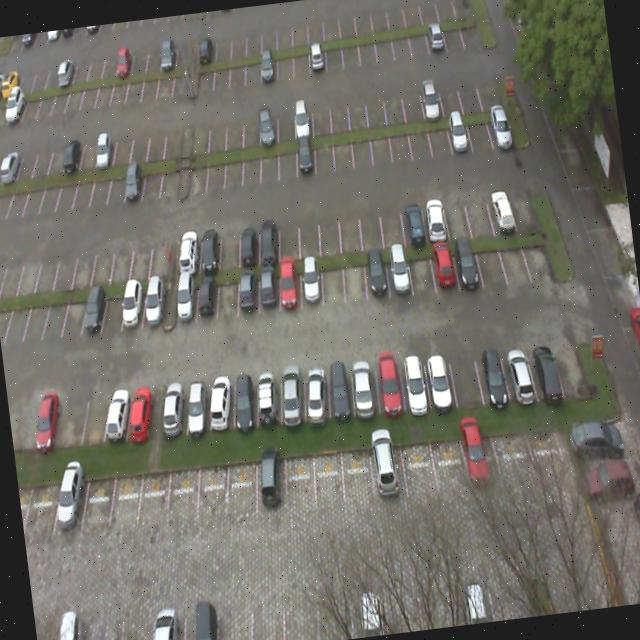empty: (71, 468, 120, 536), (102, 462, 147, 532), (129, 461, 173, 527), (18, 476, 62, 540), (220, 458, 262, 520), (550, 329, 590, 394), (190, 458, 233, 518), (308, 448, 348, 512), (160, 459, 202, 519), (282, 449, 318, 513), (73, 388, 111, 448), (449, 347, 485, 408), (49, 392, 87, 449), (93, 273, 128, 334), (520, 223, 556, 279), (56, 280, 88, 338), (473, 232, 507, 286), (208, 267, 240, 324), (464, 182, 496, 238), (82, 239, 116, 286), (102, 238, 134, 286), (64, 243, 98, 288), (510, 180, 541, 229), (498, 234, 528, 284), (378, 192, 406, 245), (100, 159, 130, 208), (340, 253, 368, 305), (408, 244, 436, 296), (123, 237, 156, 281), (83, 160, 113, 208), (135, 154, 165, 202), (146, 234, 177, 280), (444, 188, 472, 238), (354, 202, 384, 248), (314, 206, 341, 256), (154, 154, 182, 201), (182, 148, 210, 195), (274, 214, 302, 260), (214, 222, 242, 266), (321, 255, 345, 306), (292, 213, 319, 257), (336, 208, 362, 252), (256, 141, 281, 186), (238, 142, 262, 188), (330, 128, 355, 172), (428, 116, 454, 157), (203, 148, 227, 192), (222, 146, 244, 192), (467, 110, 492, 150), (352, 126, 374, 170), (369, 124, 392, 164), (408, 118, 432, 156), (274, 140, 296, 180), (312, 132, 334, 172), (390, 122, 412, 162), (18, 479, 34, 534)
occupied: (46, 473, 90, 538), (500, 338, 539, 406), (201, 372, 242, 434), (250, 452, 292, 512), (28, 390, 66, 452), (476, 341, 512, 406), (526, 334, 562, 398), (72, 279, 110, 339), (186, 266, 222, 328), (424, 350, 460, 412), (250, 370, 286, 430), (298, 362, 331, 427), (112, 277, 148, 336), (226, 371, 262, 430), (348, 356, 381, 418), (97, 385, 132, 443), (179, 374, 214, 432), (119, 387, 155, 443), (399, 354, 432, 414), (230, 260, 262, 320), (372, 352, 404, 412), (136, 273, 168, 332), (274, 367, 306, 426), (322, 361, 354, 418), (168, 270, 197, 332), (156, 382, 188, 434), (420, 187, 450, 241), (453, 237, 482, 291), (252, 263, 280, 318), (276, 260, 304, 315), (488, 181, 517, 233), (295, 260, 324, 312), (384, 245, 412, 298), (428, 242, 458, 291), (401, 192, 428, 246), (252, 216, 282, 264), (119, 157, 148, 206), (484, 102, 514, 148), (190, 228, 220, 274), (362, 250, 388, 302), (173, 232, 202, 275), (232, 222, 260, 265), (449, 109, 474, 155), (292, 136, 316, 178)
